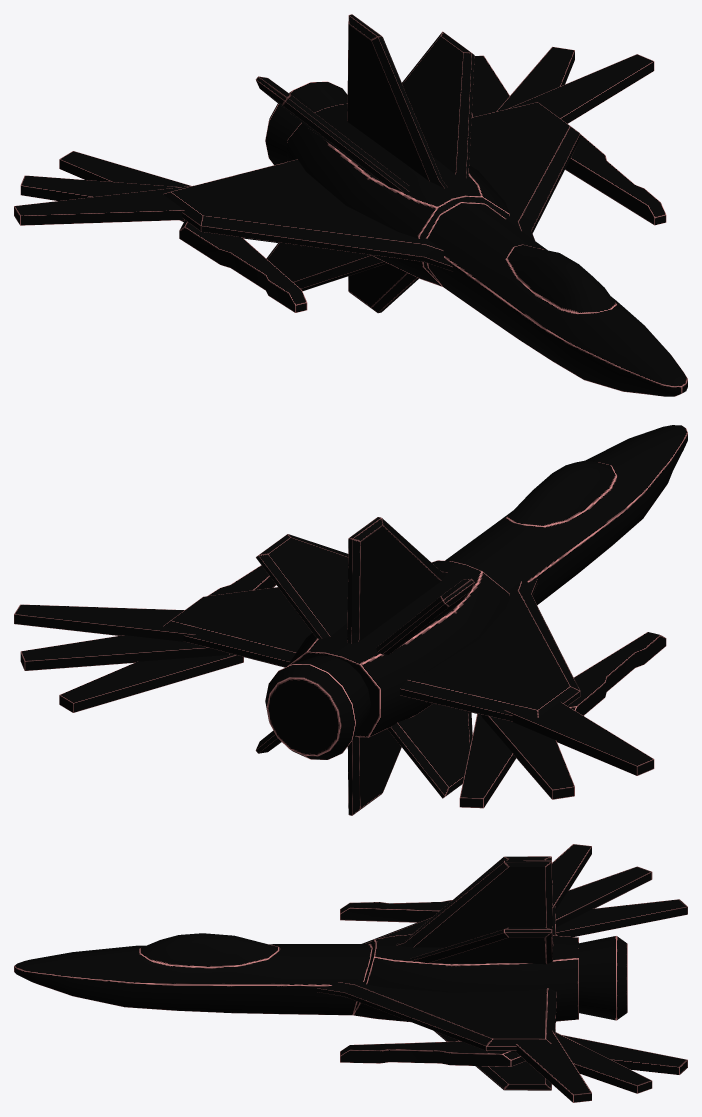
Rendered from tomahawk.obj.
The picture shows the model from 3 angles, top to bottom: view 1: azimuth 30°, elevation 25°; view 2: azimuth 150°, elevation 25°; view 3: azimuth 270°, elevation 25°; orthographic projection. The views are drawn at different scales.
Parts seen in each view (by area): view 1: StarSparrow09; view 2: StarSparrow09; view 3: StarSparrow09.
Part boxes in pixels (x1,y1,x2,y2): StarSparrow09: (14, 14, 687, 396); StarSparrow09: (14, 425, 687, 815); StarSparrow09: (14, 844, 687, 1102).
Bounding box in the file's own units: 10.23 × 4.27 × 11.6.
Materials: 1 (1 with a texture image).
